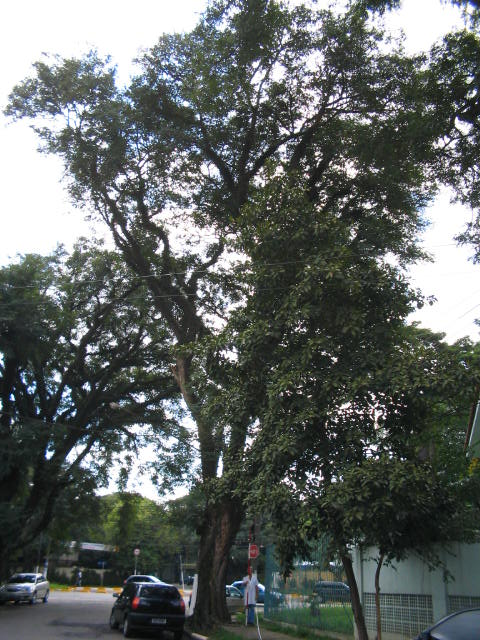crown: (7, 4, 469, 439)
stem: (189, 512, 239, 624)
stick: (242, 525, 256, 627)
tree: (5, 2, 471, 627)
